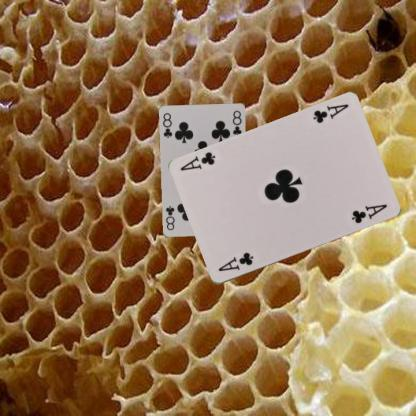8c: (161, 110, 174, 140)
Ac: (215, 250, 255, 273), (310, 101, 350, 124)
